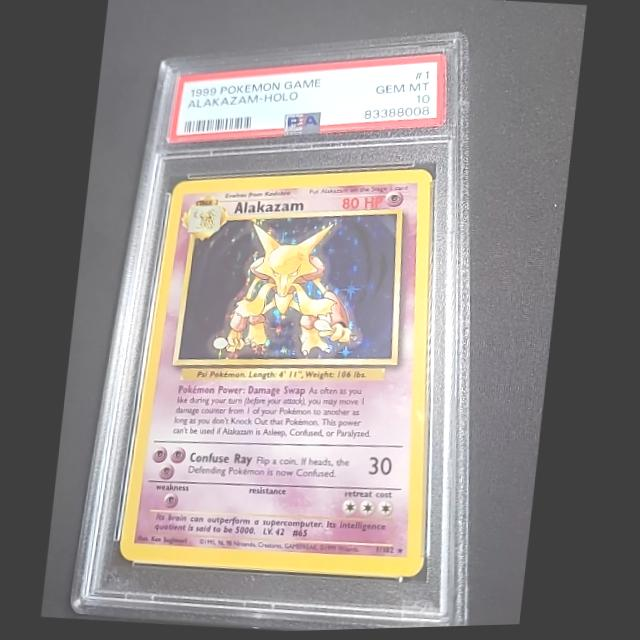card: (118, 171, 432, 578)
psa_label: (166, 54, 446, 142)
psa_slab: (69, 33, 470, 632)
